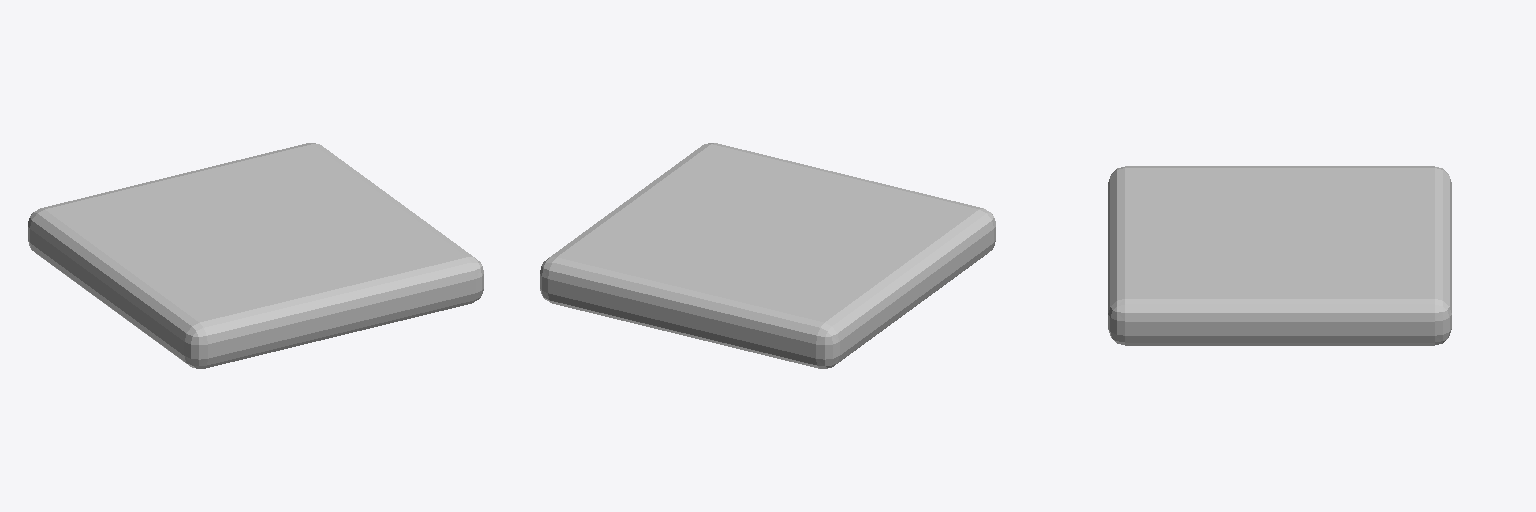
File: test-floor.obj
The picture shows the model from 3 angles: view 1: azimuth 30°, elevation 25°; view 2: azimuth 150°, elevation 25°; view 3: azimuth 270°, elevation 25°; orthographic projection.
Visible parts, largest first — view 1: floor_Cube; view 2: floor_Cube; view 3: floor_Cube.
Boxes of the visible parts, x1,y1,x2,y2 form: floor_Cube: [28, 143, 483, 368]; floor_Cube: [540, 143, 995, 368]; floor_Cube: [1108, 166, 1451, 345].
Size of the model in its own units: 2 by 0.2911 by 2.